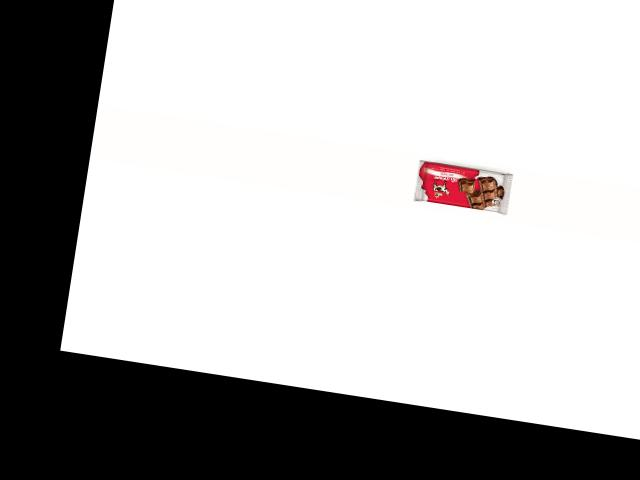chocolate: (410, 151, 516, 218)
